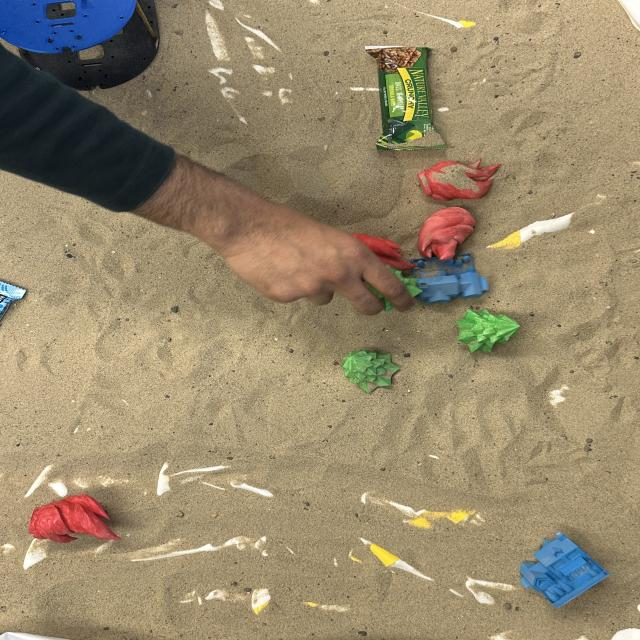fire: (26, 492, 122, 545), (419, 157, 502, 201), (418, 206, 477, 260), (355, 234, 416, 269)
house: (516, 529, 611, 609), (409, 252, 488, 304)
tree: (453, 306, 521, 354), (343, 349, 402, 392)
